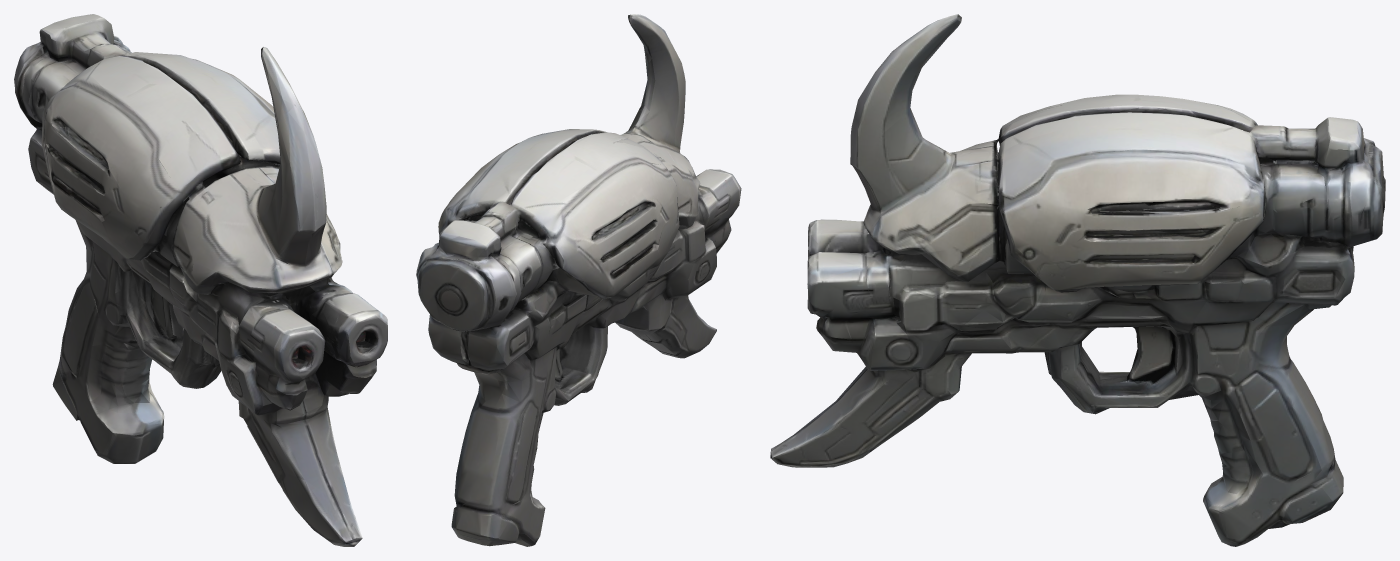
Rendered from hornet.high.glb.
3 views of the same model, side by side, from view 1: azimuth 30°, elevation 25°; view 2: azimuth 150°, elevation 25°; view 3: azimuth 270°, elevation 25° (orthographic). The views are drawn at different scales.
Parts seen in each view (by area): view 1: model; view 2: model; view 3: model.
Part boxes in pixels (x1,y1,x2,y2): model: (14, 14, 387, 546); model: (416, 14, 741, 546); model: (770, 14, 1385, 546).
Size of the model in its own units: 0.1711 by 0.4335 by 0.46.
Materials: 1 (1 with a texture image).
